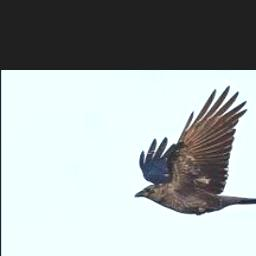Crow: (135, 86, 256, 215)
